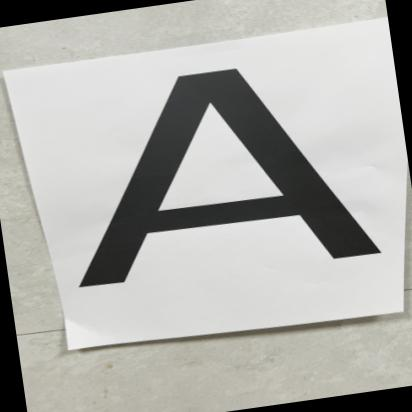seat: (31, 36, 397, 322)
